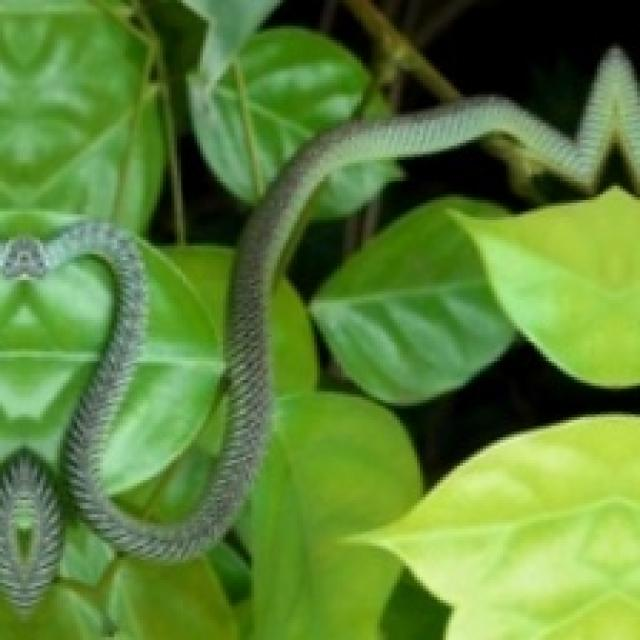paradise tree snake: (0, 49, 637, 637)
